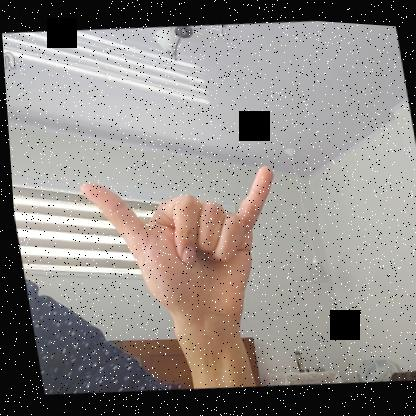Y: (72, 149, 297, 339)
